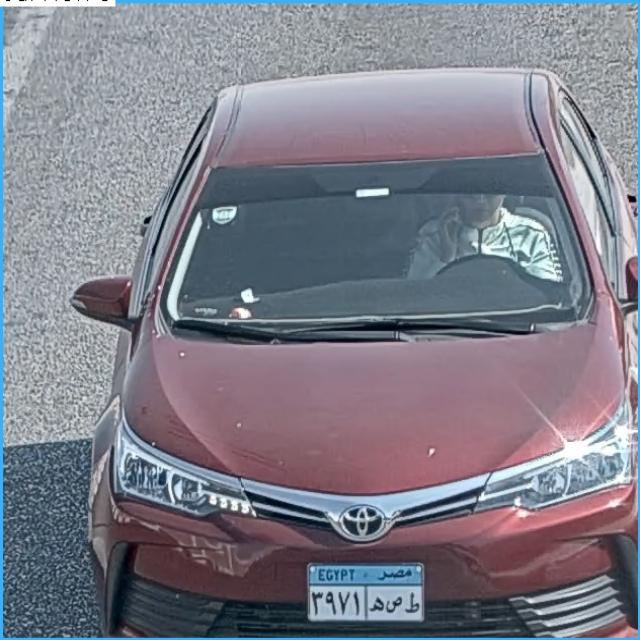windshield: (138, 146, 588, 341)
